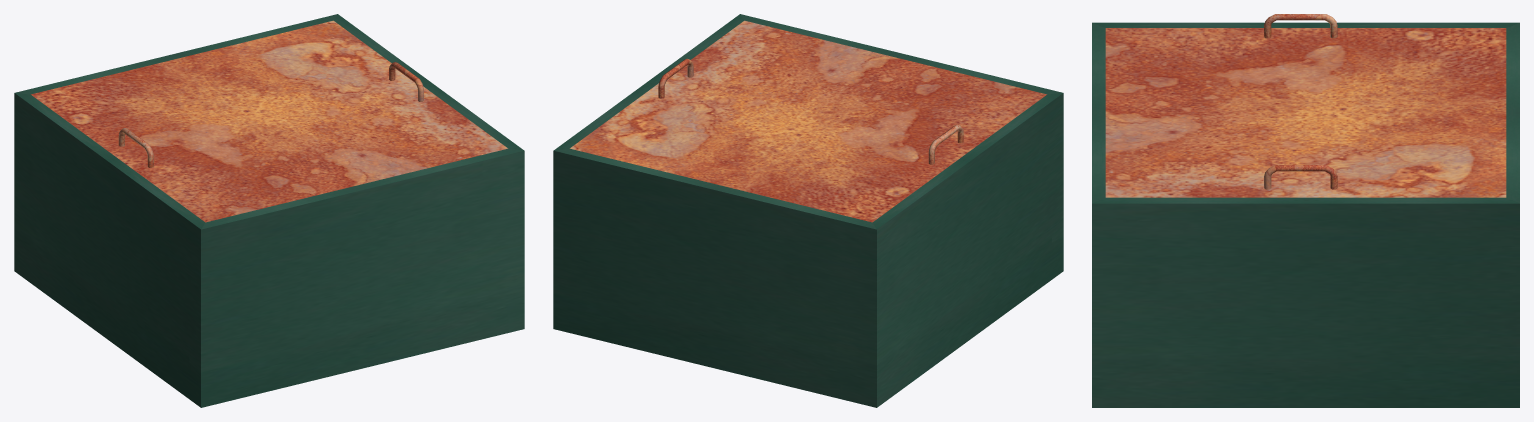
Rendered from tiexiang_2_mol.FBX.
3 renders of one model, left to right at view 1: azimuth 30°, elevation 25°; view 2: azimuth 150°, elevation 25°; view 3: azimuth 270°, elevation 25°, orthographic. The views are drawn at different scales.
Parts seen in each view (by area): view 1: tiexiang2; view 2: tiexiang2; view 3: tiexiang2.
Part boxes in pixels (x1,y1,x2,y2): tiexiang2: (14,14,524,407); tiexiang2: (553,14,1063,407); tiexiang2: (1092,14,1519,407).
Bounding box in the file's own units: 0.8058 × 0.8058 × 0.4734.
